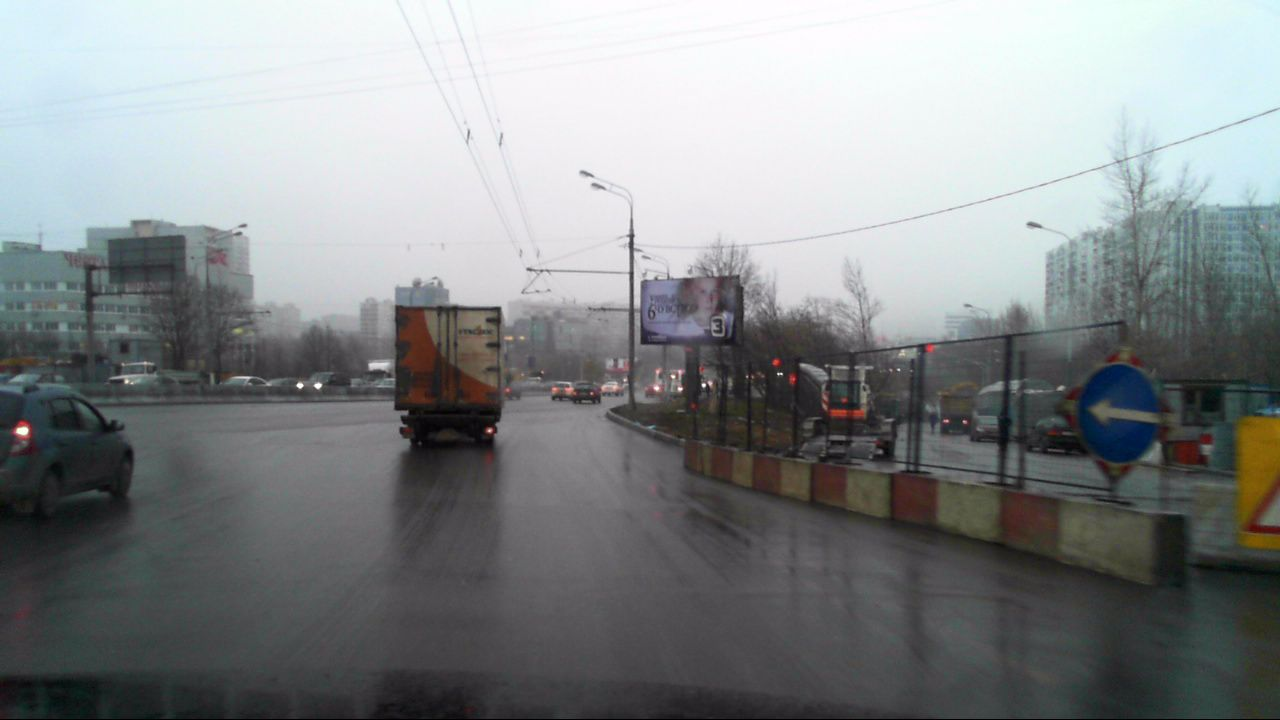Turn Left: (1077, 363, 1160, 463)
